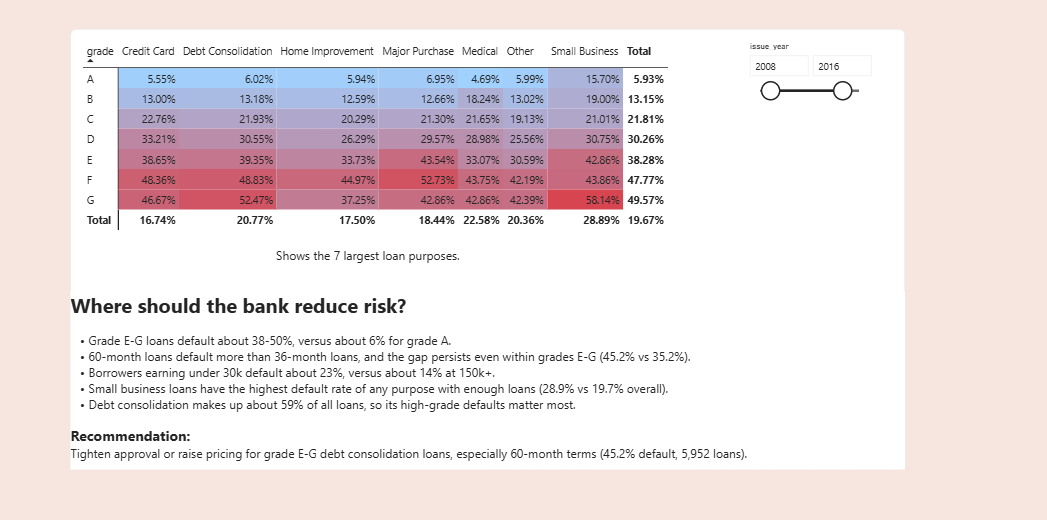

This screenshot's page, from the dashboard's own definition file:
{"tool":"powerbi","page":{"name":"Recommendation","canvas":[1920,1080],"ordinal":2},"visuals":[{"type":"pivotTable","fields":{"Columns":["loans.purpose"],"Rows":["loans.grade"],"Values":["loans.Default Rate"]},"box":[398.7,63.2,1112.5,370],"z":0},{"type":"textbox","box":[398.7,413.2,1112.5,237.5],"z":1000},{"type":"textbox","box":[798.6,942.9,540,137.1],"z":2000},{"type":"slicer","fields":{"Values":["loans.issue_year"]},"box":[1296.2,79.5,171.8,116.9],"z":3000},{"type":"textbox","box":[672.4,354.5,253.8,25],"z":4000}]}

Visuals, with their boxes on the page's 1920x1080 design canvas (x1, y1, x2, y2). These are canvas units, not pixel positions in the 1047x520 screenshot, which may show the page scaled, cropped or inside an application window:
pivotTable - loans.purpose x loans.grade: <bbox>399, 63, 1511, 433</bbox>
textbox: <bbox>399, 413, 1511, 651</bbox>
textbox: <bbox>799, 943, 1339, 1080</bbox>
slicer - loans.issue_year: <bbox>1296, 80, 1468, 196</bbox>
textbox: <bbox>672, 354, 926, 380</bbox>
